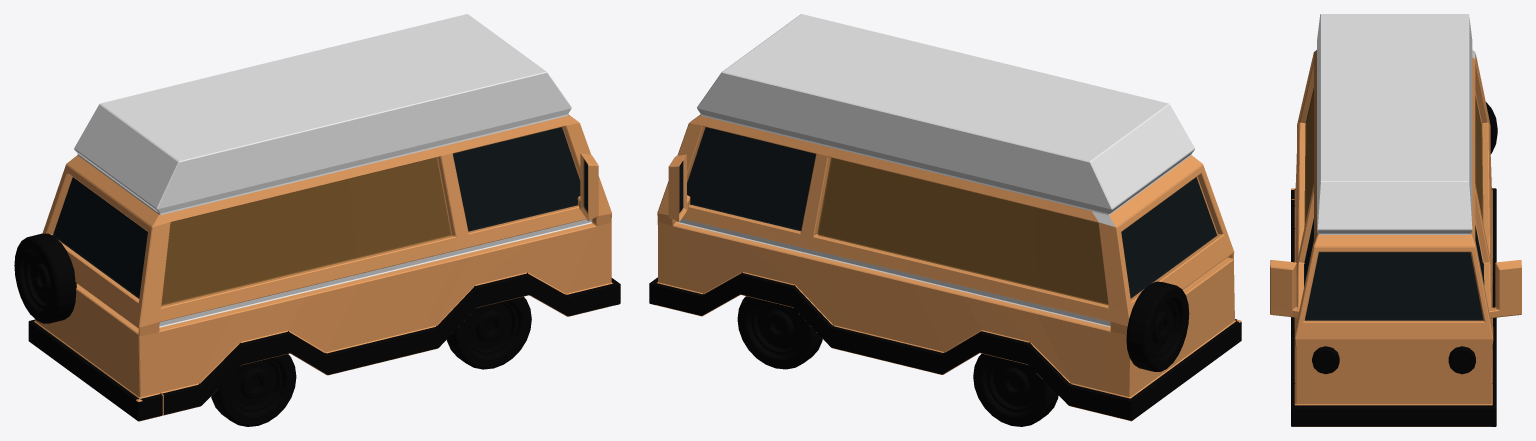
Rendered from PartyBusExterior.fbx.
The picture shows the model from 3 angles, left to right: view 1: azimuth 30°, elevation 25°; view 2: azimuth 150°, elevation 25°; view 3: azimuth 270°, elevation 25°; orthographic projection. The views are drawn at different scales.
Parts seen in each view (by area): view 1: BusOutside; view 2: BusOutside; view 3: BusOutside.
Part boxes in pixels (x1,y1,x2,y2): BusOutside: (14, 14, 620, 426); BusOutside: (649, 14, 1241, 426); BusOutside: (1270, 14, 1521, 426).
Bounding box in the file's own units: 1161 × 614 × 545.
